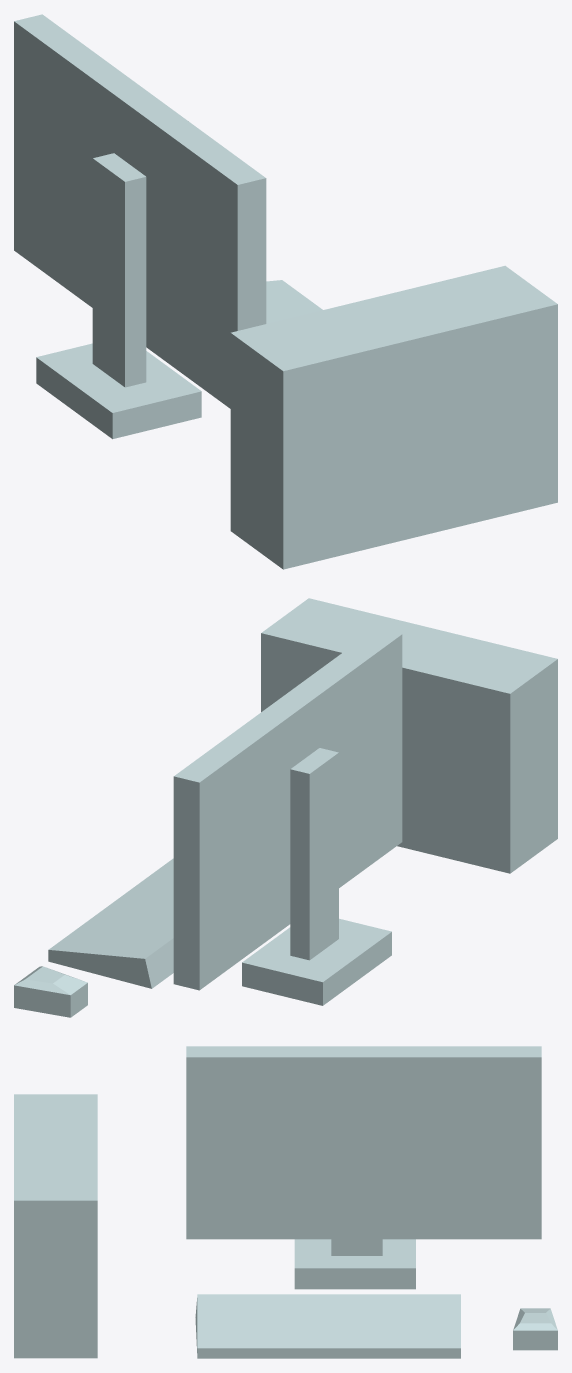
Rendered from сomputer.fbx.
The picture shows the model from 3 angles, top to bottom: view 1: azimuth 30°, elevation 25°; view 2: azimuth 150°, elevation 25°; view 3: azimuth 270°, elevation 25°; orthographic projection. The views are drawn at different scales.
Visible parts, largest first — view 1: сomputer; view 2: сomputer; view 3: сomputer.
Part boxes in pixels (left/top/right/bottom): сomputer: left=14, top=14, right=557, bottom=569; сomputer: left=14, top=598, right=557, bottom=1017; сomputer: left=14, top=1046, right=557, bottom=1358.
Bounding box in the file's own units: 59.55 × 59.07 × 126.
